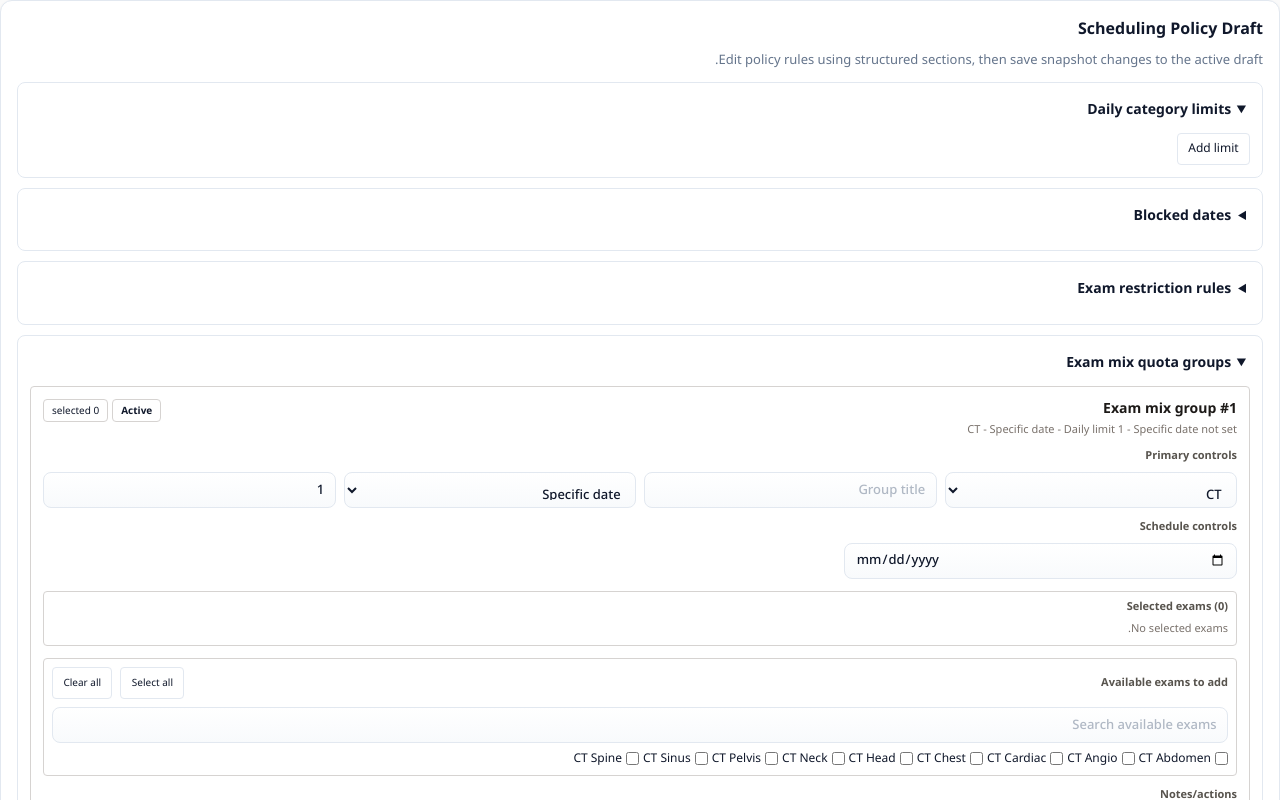
Test: PolicyDraftEditor exam type helper text › Exam mix quota groups section › selects and confirms clearing all exam mix group exams
What coordinates should you click on to do the following:
click the button "Select all"
I would click on:
 (152, 683)
Its box is [120, 667, 184, 699].
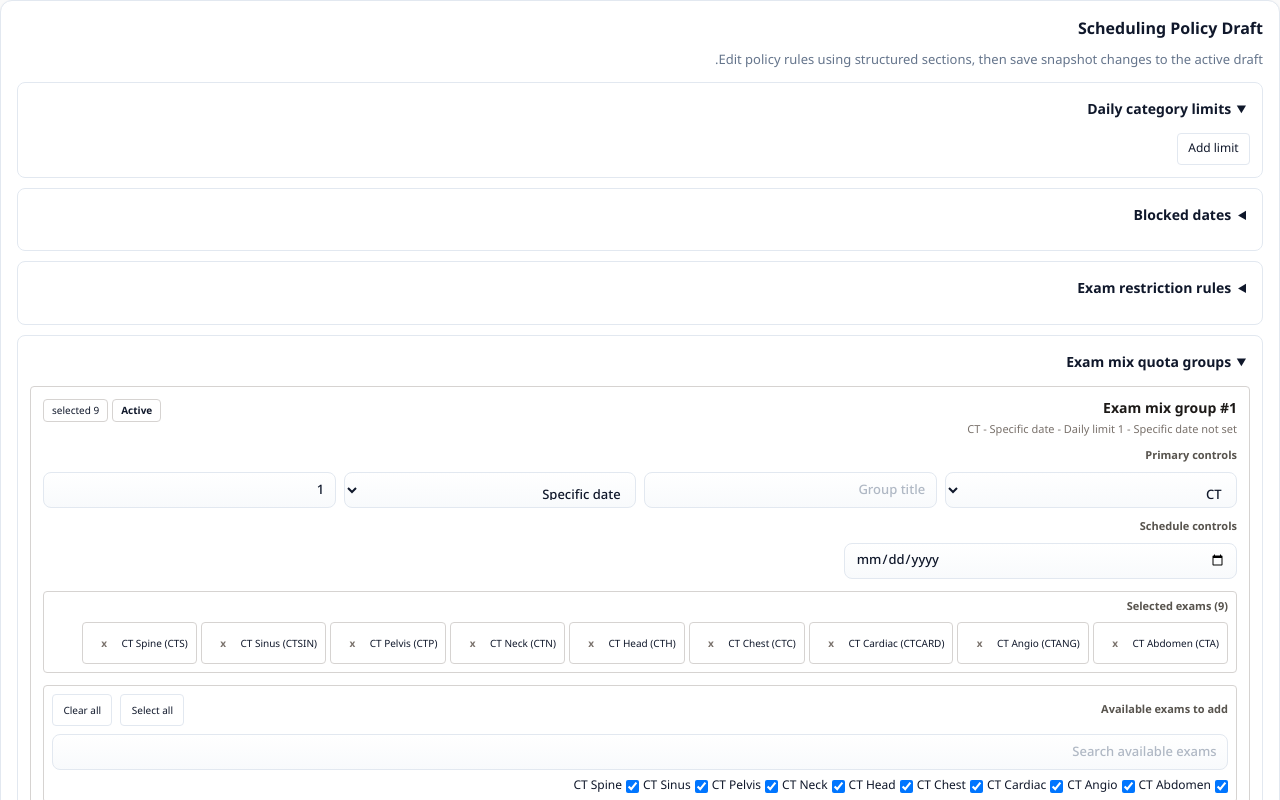
Check: the checkbox labelled "CT Head" is checked, box [900, 780, 913, 793]
Check: the checkbox labelled "CT Chest" is checked, box [970, 780, 983, 793]
What coordinates should you click on to do the following:
click the button "Clear all"
I would click on:
 (82, 710)
Its box is [52, 694, 112, 726].
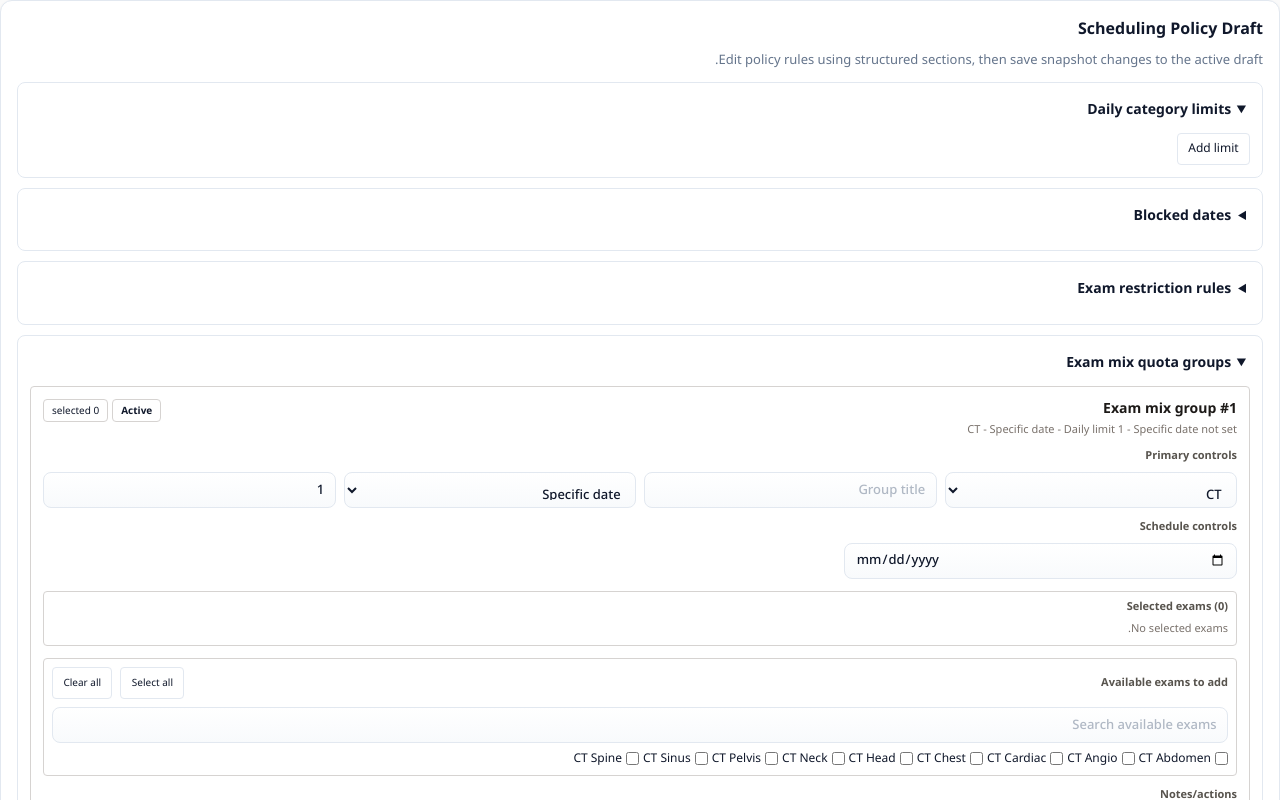
Check: the checkbox labelled "CT Head" is not checked, box [900, 752, 913, 766]
Check: the checkbox labelled "CT Chest" is not checked, box [970, 752, 983, 766]
